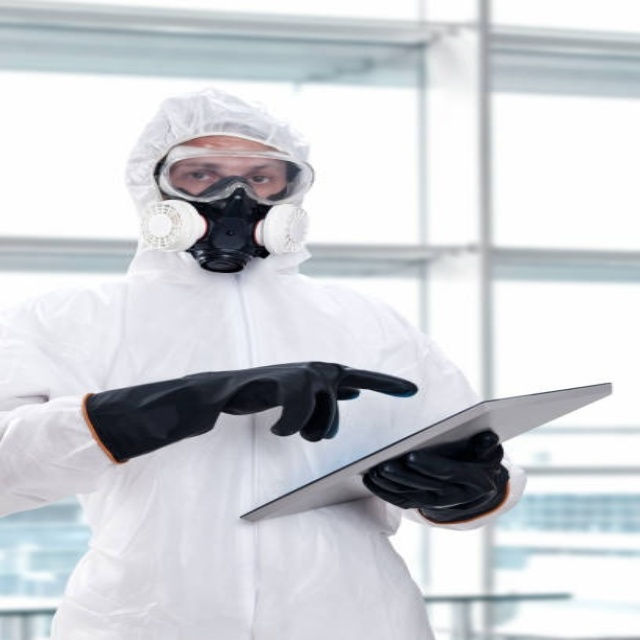Gafas: (152, 143, 314, 207)
Guantes: (83, 362, 418, 464), (364, 429, 510, 523)
Mascara: (136, 173, 315, 273)
